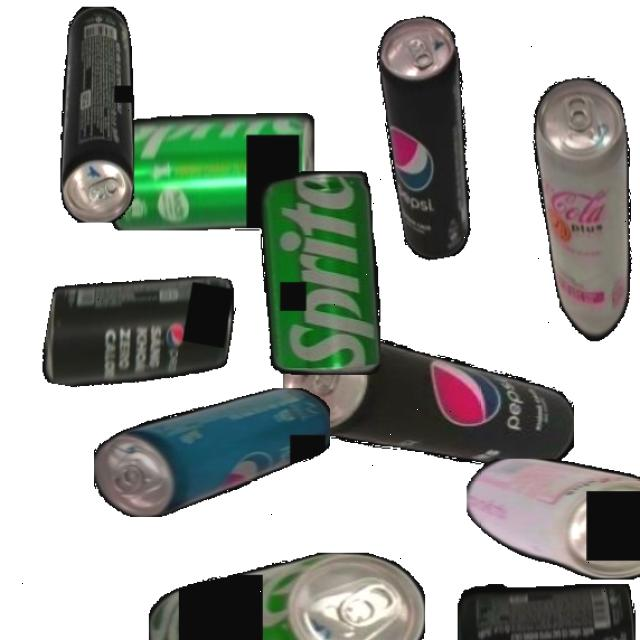debris: (283, 333, 574, 468), (521, 72, 640, 351), (38, 250, 241, 412), (367, 12, 492, 263), (94, 387, 330, 517), (106, 112, 314, 230), (260, 171, 380, 375), (147, 552, 425, 640), (465, 458, 640, 580), (59, 6, 134, 222), (457, 583, 636, 640)
